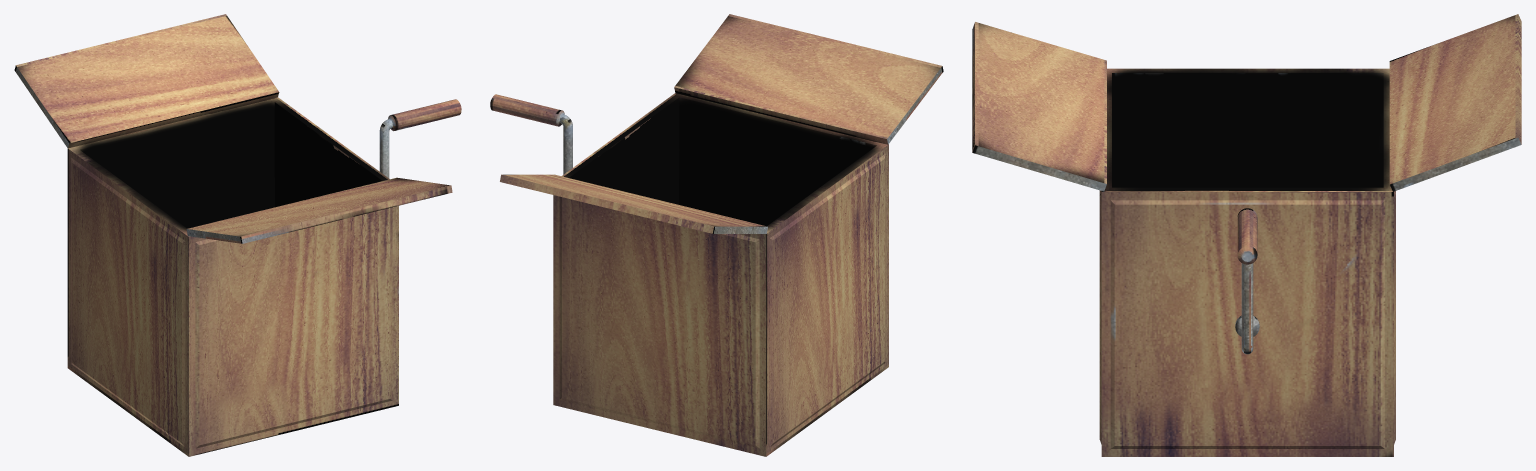
File: musicbox.glb
3 renders of one model, left to right at view 1: azimuth 30°, elevation 25°; view 2: azimuth 150°, elevation 25°; view 3: azimuth 270°, elevation 25°, orthographic. The views are drawn at different scales.
Parts seen in each view (by area): view 1: Box; view 2: Box; view 3: Box.
Part boxes in pixels (x1,y1,x2,y2): Box: [14, 14, 461, 456]; Box: [490, 14, 943, 456]; Box: [972, 14, 1521, 456].
Size of the model in its own units: 3.16 by 2.41 by 3.76.
Materials: 1 (1 with a texture image).
